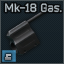Mk-18 gas block: (0, 0, 64, 64)
